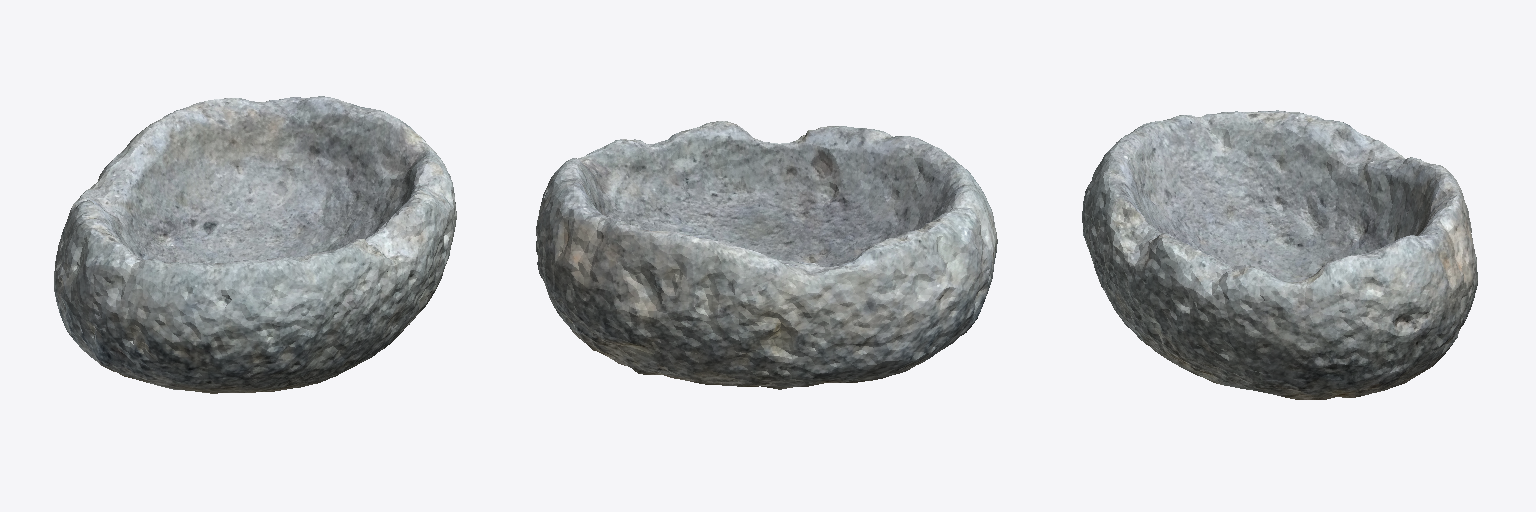
3 renders of one model, left to right at view 1: azimuth 30°, elevation 25°; view 2: azimuth 150°, elevation 25°; view 3: azimuth 270°, elevation 25°, orthographic.
Parts seen in each view (by area): view 1: mmGroup0; view 2: mmGroup0; view 3: mmGroup0.
Boxes of the visible parts, <box> form: mmGroup0: <box>54,96,456,393</box>; mmGroup0: <box>536,121,997,389</box>; mmGroup0: <box>1082,110,1477,399</box>.
Size of the model in its own units: 0.5131 by 0.2078 by 0.4563.
2 materials, 2 textured.